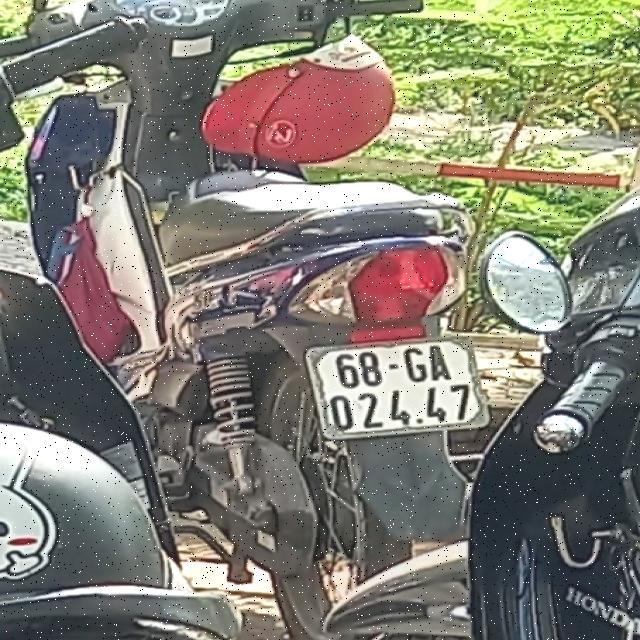0: (329, 394, 353, 432)
2: (359, 393, 384, 430)
4: (389, 388, 412, 426), (425, 387, 448, 424)
6: (335, 352, 357, 388)
7: (452, 383, 472, 420)
8: (356, 352, 386, 386)
A: (427, 343, 452, 381)
G: (403, 346, 428, 382)
